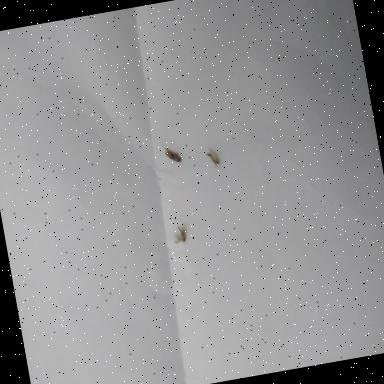pbw: (160, 141, 182, 165)
